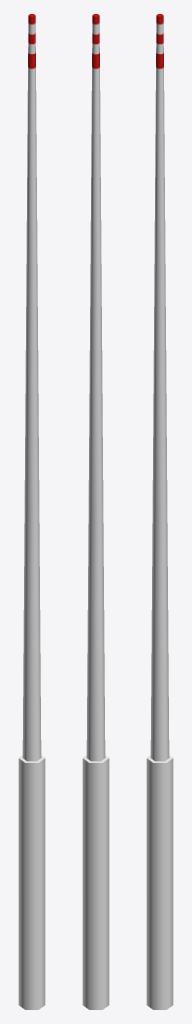
Rendered from spire.glb.
3 views of the same model, side by side, from view 1: azimuth 90°, elevation 25°; view 2: azimuth 150°, elevation 25°; view 3: azimuth 270°, elevation 25° (orthographic).
Parts seen in each view (by area): view 1: Spire; view 2: Spire; view 3: Spire.
Boxes of the visible parts, bbox=[...] form: Spire: bbox=[18, 14, 45, 1009]; Spire: bbox=[82, 14, 109, 1009]; Spire: bbox=[146, 14, 173, 1009].
Bounding box in the file's own units: 0.0378 × 1.77 × 0.0437.
Materials: 1 (1 with a texture image).
